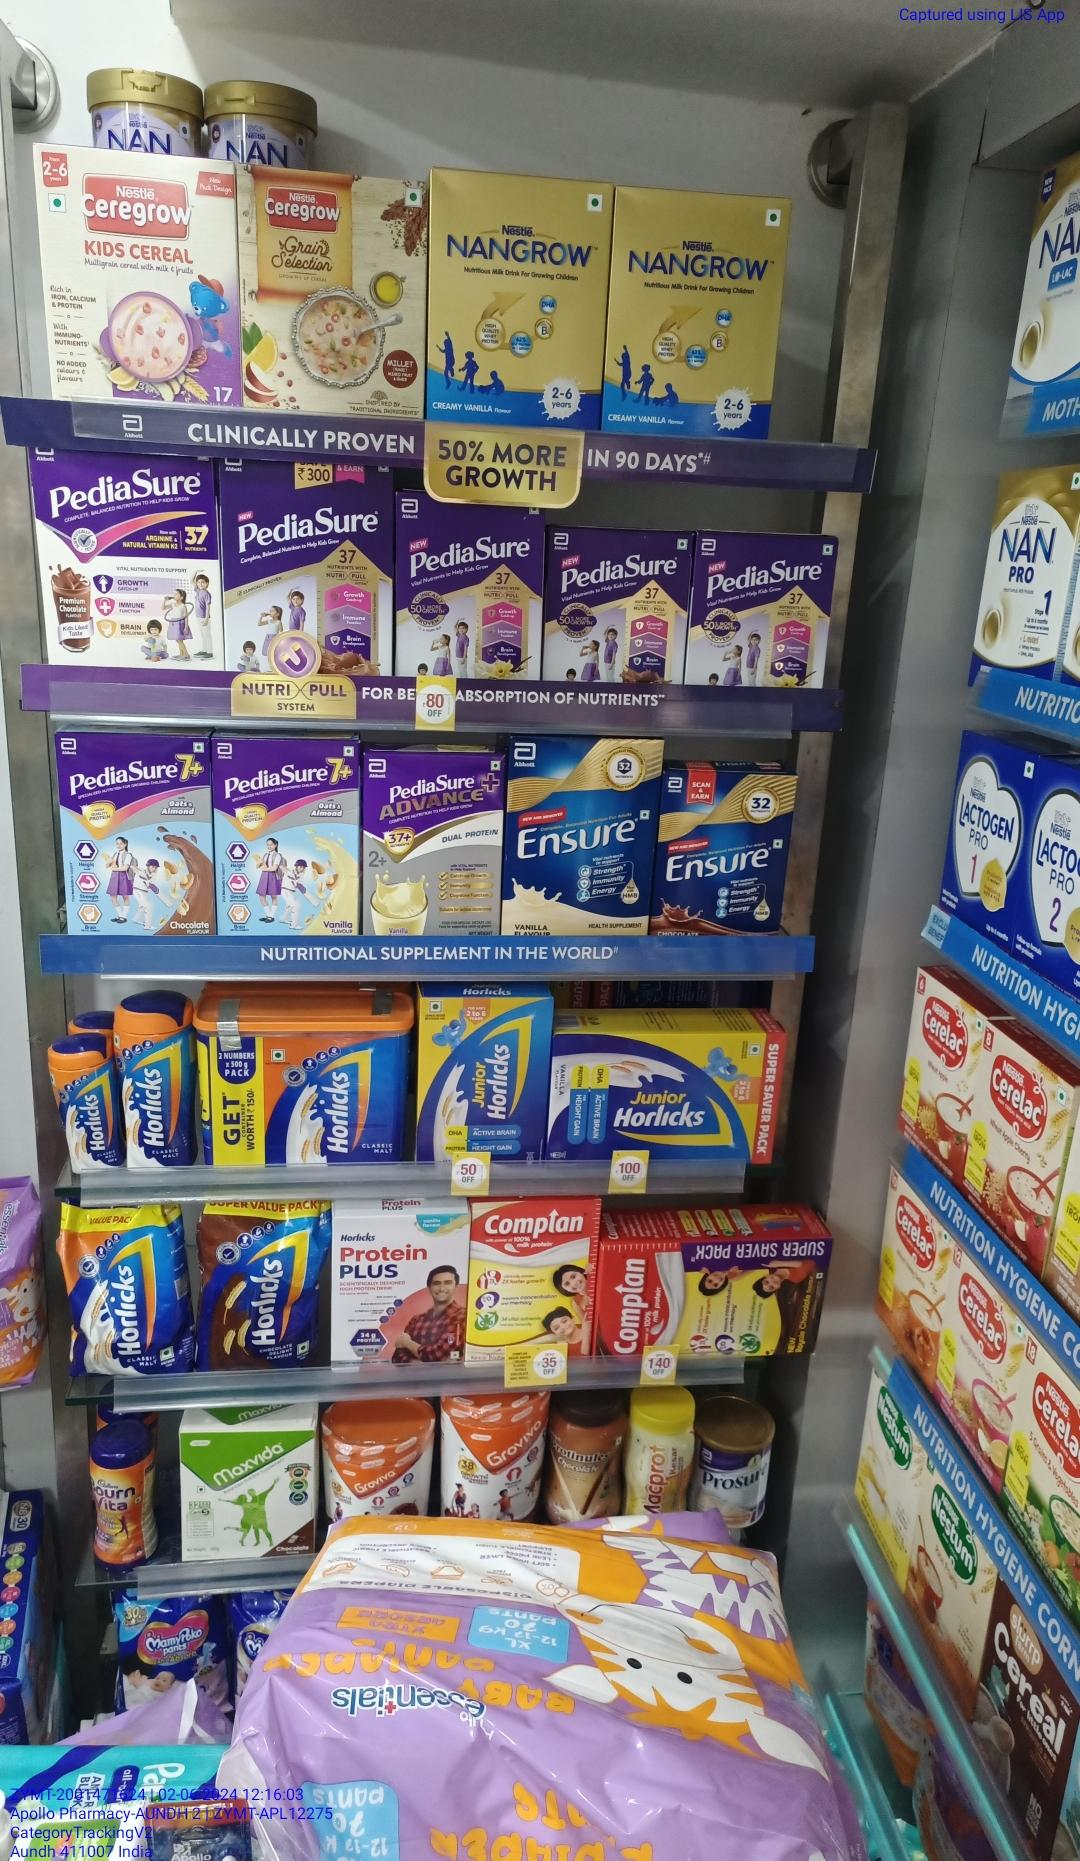HORLICK_CLASSIC_MALT_200_G_JAR: (59, 1042, 111, 1172)
HORLICK_CLASSIC_MALT_500_G_JAR: (121, 1004, 184, 1171)
HORLICK_MALT_1_KG_CONTAINER: (198, 1015, 409, 1171)
PEDIASURE_CHOCOLATE_500_G_PACK: (548, 528, 683, 693)
PEDIASURE_VANILLA_500_G_PACK: (395, 488, 540, 712), (689, 526, 829, 706)
